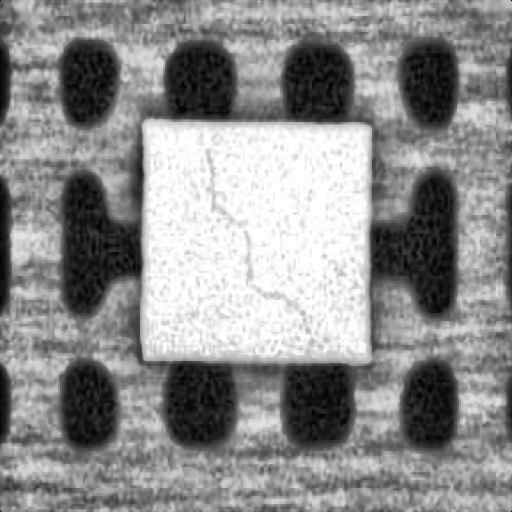DIE_CRACK: (202, 132, 312, 340)
